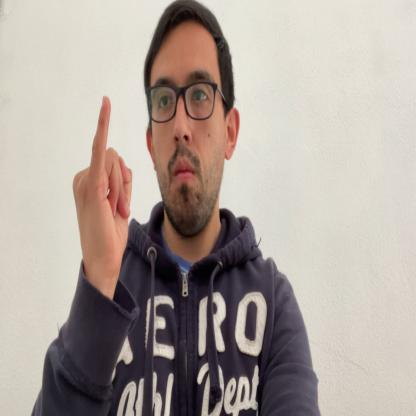I: (72, 96, 132, 275)
